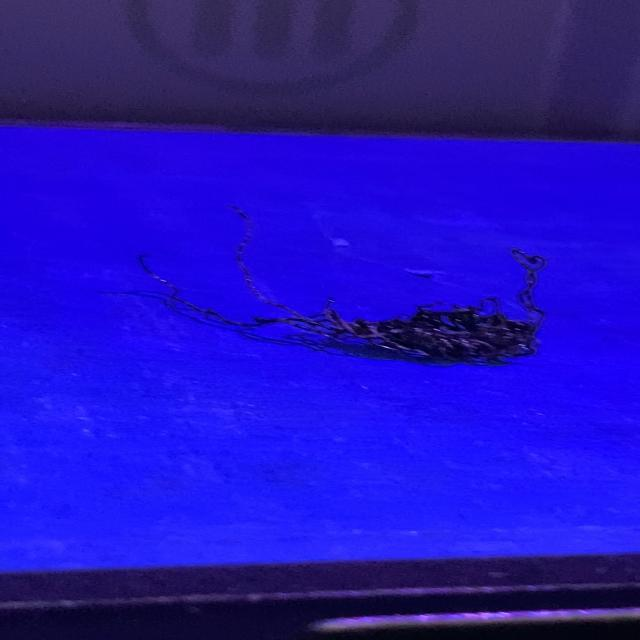spaghetti: (112, 204, 549, 367)
